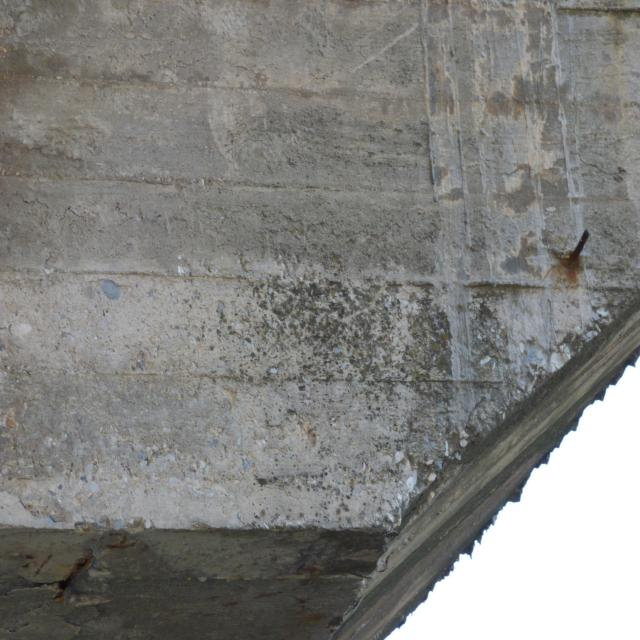corrosion: (19, 530, 140, 607), (550, 224, 599, 294), (290, 560, 328, 640), (220, 590, 282, 608)
